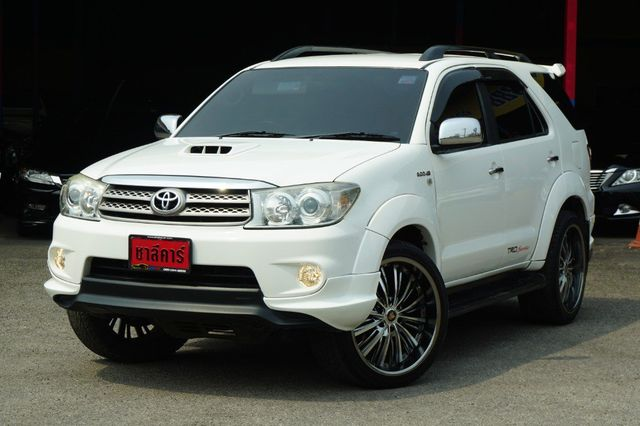pickup: (43, 45, 598, 387)
